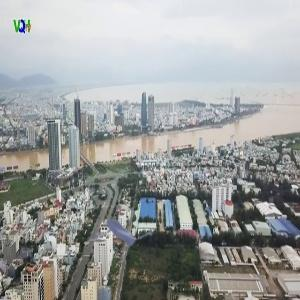drone: (80, 187, 169, 276)
